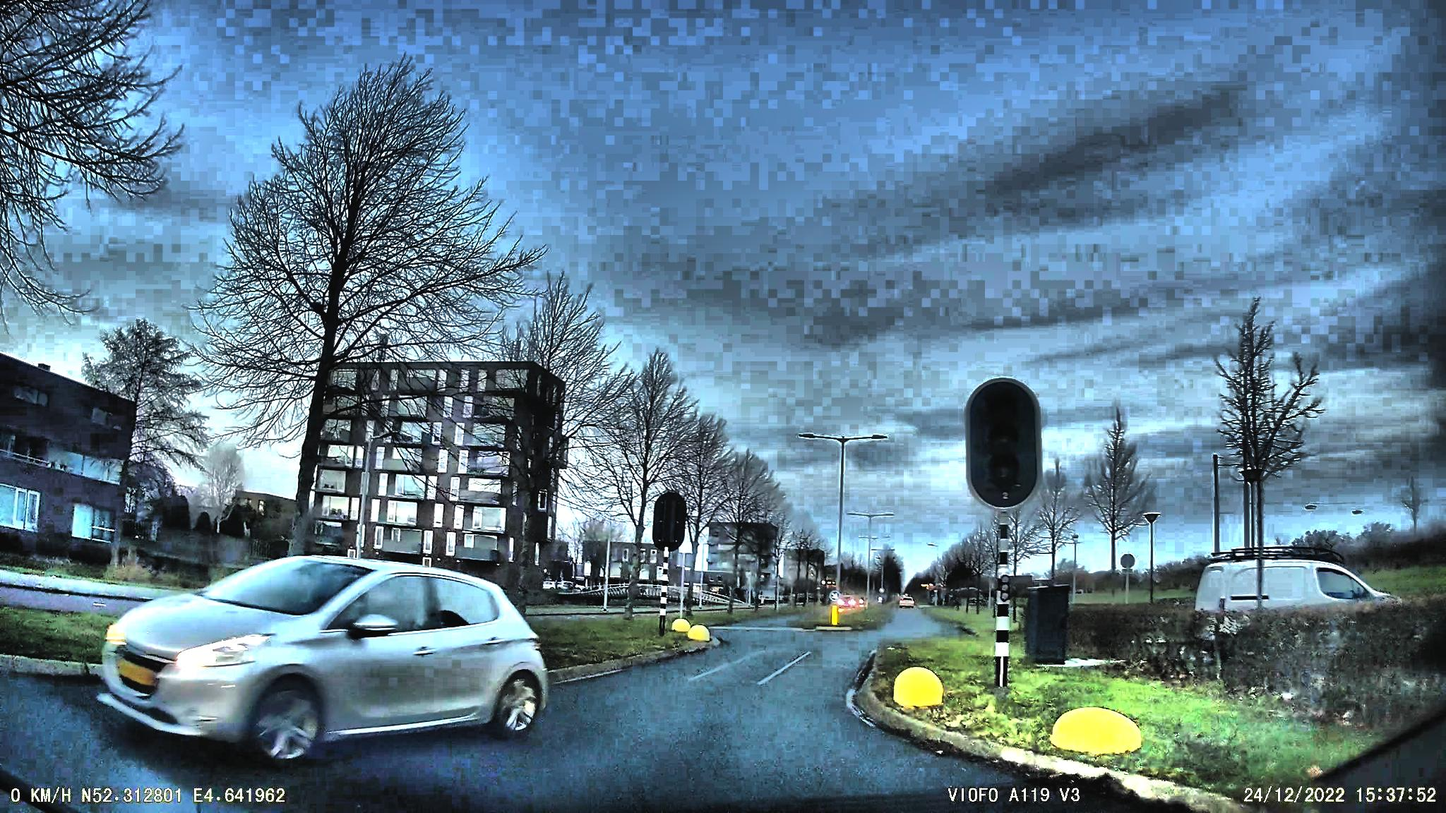Roads: (0, 616, 1194, 813)
